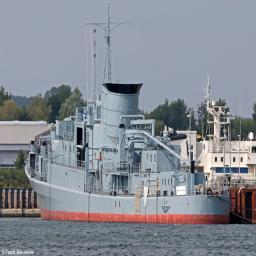Fragata: (25, 18, 231, 226)
